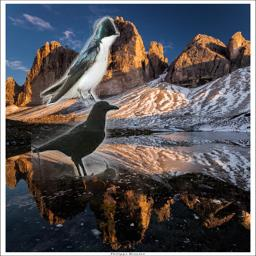Crow: (31, 100, 119, 180)
Swallow: (40, 15, 120, 107)
